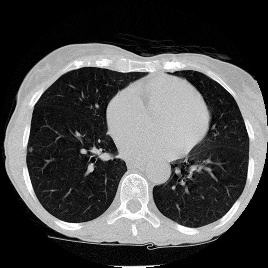PN: (28, 147, 32, 151)
